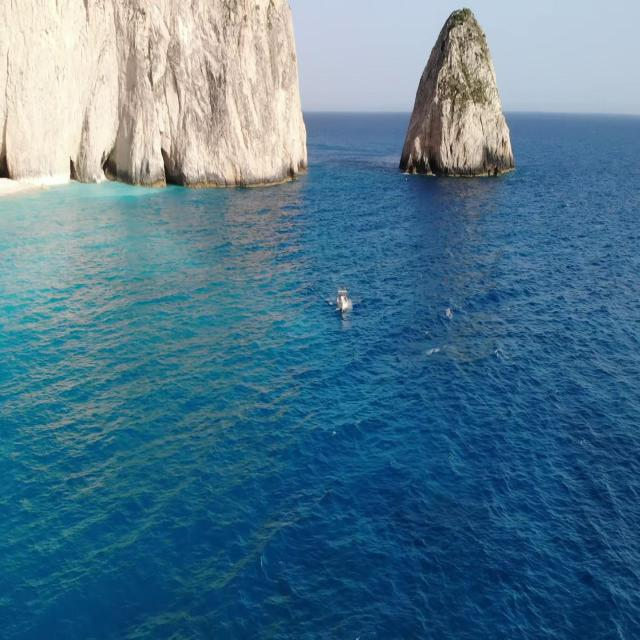boat: (336, 282, 350, 313)
